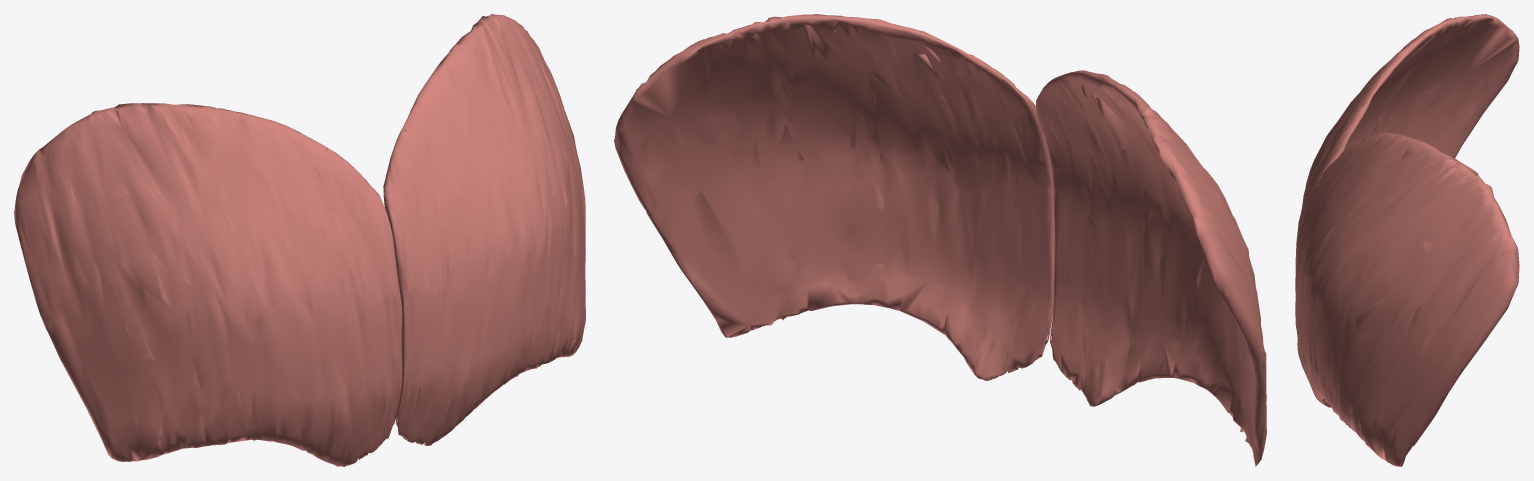
The model's file is frontalis_lod1.glb.
3 views of the same model, side by side, from view 1: azimuth 30°, elevation 25°; view 2: azimuth 150°, elevation 25°; view 3: azimuth 270°, elevation 25° (orthographic). The views are drawn at different scales.
Parts seen in each view (by area): view 1: frontalis_R_lod1, frontalis_L_lod1; view 2: frontalis_L_lod1, frontalis_R_lod1; view 3: frontalis_L_lod1, frontalis_R_lod1.
Part boxes in pixels (box(x1,y1,x2,y2)): frontalis_R_lod1: box(14, 103, 402, 466); frontalis_L_lod1: box(383, 14, 585, 445); frontalis_L_lod1: box(614, 14, 1054, 380); frontalis_R_lod1: box(1035, 70, 1266, 466); frontalis_L_lod1: box(1295, 133, 1519, 466); frontalis_R_lod1: box(1295, 14, 1519, 291).
Size of the model in its own units: 0.12 by 0.0716 by 0.0485.
